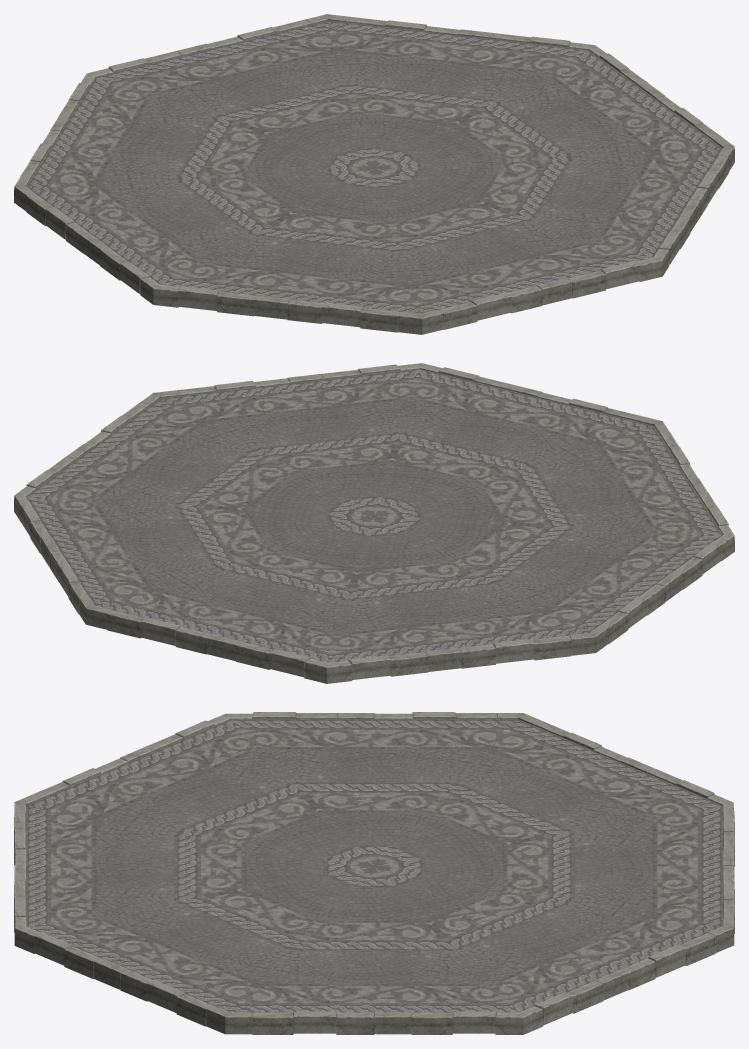
File: bg_lut_lucastle_mainfloor04_sm_kss.FBX
The picture shows the model from 3 angles, top to bottom: view 1: azimuth 30°, elevation 25°; view 2: azimuth 150°, elevation 25°; view 3: azimuth 270°, elevation 25°; orthographic projection. The views are drawn at different scales.
Parts seen in each view (by area): view 1: bg_lut_lucastle_mainfloor04_sm_kss; view 2: bg_lut_lucastle_mainfloor04_sm_kss; view 3: bg_lut_lucastle_mainfloor04_sm_kss.
Part boxes in pixels (<box>): bg_lut_lucastle_mainfloor04_sm_kss: <box>14,14,734,334</box>; bg_lut_lucastle_mainfloor04_sm_kss: <box>14,363,734,683</box>; bg_lut_lucastle_mainfloor04_sm_kss: <box>14,712,734,1034</box>.
Bounding box in the file's own units: 1724 × 49.97 × 1724.
